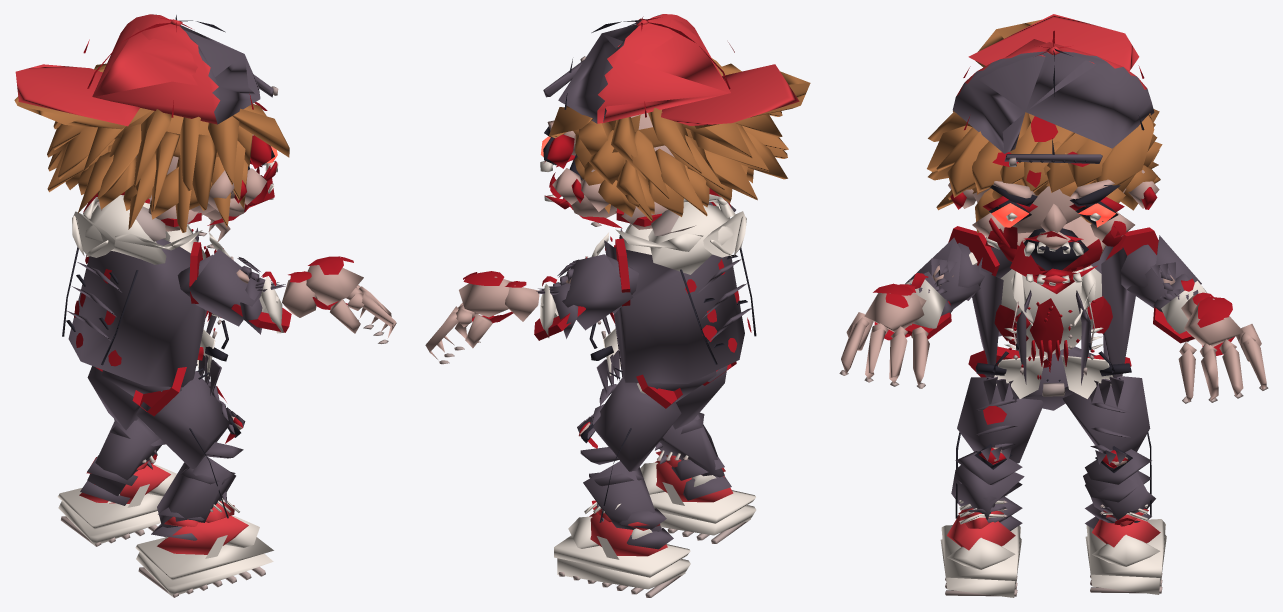
The picture shows the model from 3 angles, left to right: view 1: azimuth 30°, elevation 25°; view 2: azimuth 150°, elevation 25°; view 3: azimuth 270°, elevation 25°; orthographic projection.
Visible parts, largest first — view 1: head, torso, footR, footL, legR, shinR, shinL, handR, armR, foreArmR, legL, stump_legR (+2 smaller); view 2: head, torso, footL, footR, legL, shinL, armL, handL, shinR, foreArmL, legR, stump_legL (+3 smaller); view 3: head, torso, footR, footL, handR, handL, legR, legL, shinL, shinR, armL, armR (+5 smaller).
Boxes of the visible parts, box(x1,y1,x2,y2) form: head: box(14, 14, 289, 232); torso: box(62, 195, 233, 395); footR: box(135, 498, 273, 597); footL: box(57, 455, 176, 546); legR: box(135, 371, 245, 518); shinR: box(151, 442, 243, 540); shinL: box(80, 418, 165, 505); handR: box(306, 256, 396, 344); armR: box(177, 249, 265, 326); foreArmR: box(240, 271, 317, 334); legL: box(87, 366, 139, 430); stump_legR: box(132, 367, 186, 416); head: box(540, 14, 810, 229); torso: box(585, 194, 756, 394); footL: box(554, 502, 690, 597); footR: box(640, 450, 756, 543); legL: box(577, 378, 681, 522); shinL: box(580, 447, 673, 549); armL: box(553, 254, 638, 330); handL: box(425, 271, 513, 364); shinR: box(655, 412, 731, 500); foreArmL: box(505, 276, 578, 338); legR: box(672, 365, 727, 429); stump_legL: box(636, 374, 682, 408); head: box(927, 14, 1162, 293); torso: box(972, 237, 1135, 407); footR: box(940, 495, 1021, 597); footL: box(1085, 504, 1166, 594); handR: box(839, 283, 929, 388); handL: box(1178, 296, 1268, 403); legR: box(955, 377, 1043, 518); legL: box(1062, 376, 1151, 516); shinL: box(1083, 449, 1155, 529); shinR: box(951, 451, 1024, 530); armL: box(1121, 235, 1201, 307); armR: box(905, 237, 992, 309).
Size of the model in its own units: 0.9556 by 1.66 by 1.22.
